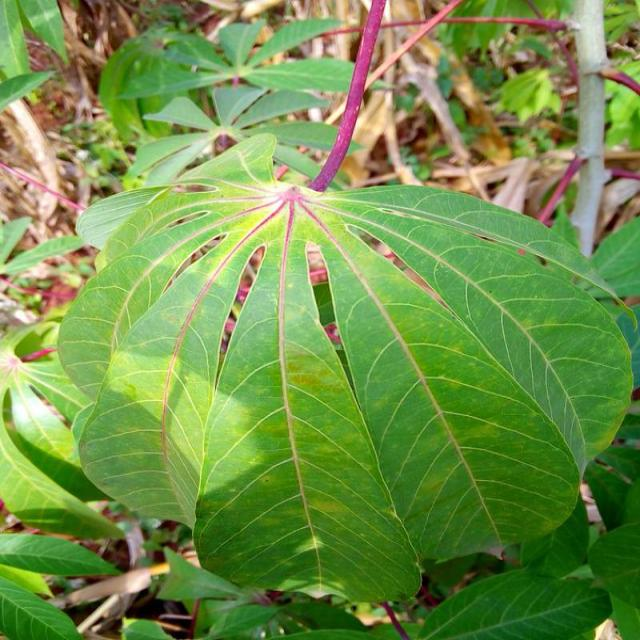cassava leaf: (57, 1, 637, 607)
